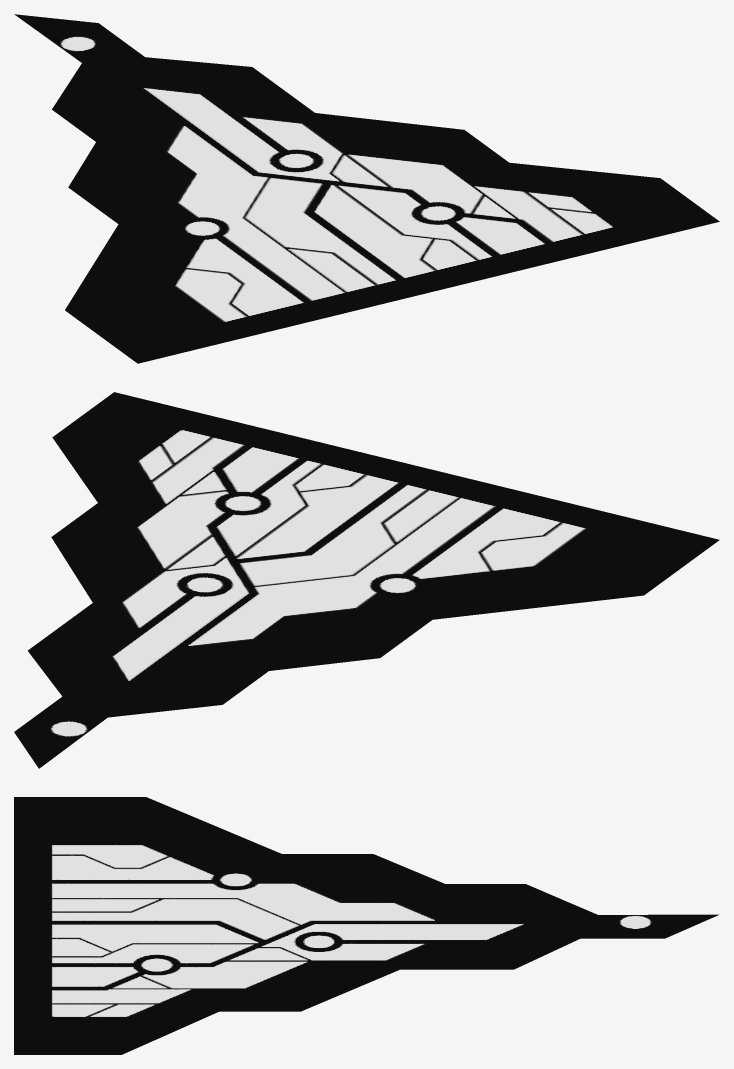
The model's file is dianlubanPBR.FBX.
3 views of the same model, one above another, from view 1: azimuth 30°, elevation 25°; view 2: azimuth 150°, elevation 25°; view 3: azimuth 270°, elevation 25° (orthographic). The views are drawn at different scales.
Visible parts, largest first — view 1: dianlubanPBR; view 2: dianlubanPBR; view 3: dianlubanPBR.
Boxes of the visible parts, x1,y1,x2,y2 form: dianlubanPBR: [14, 14, 719, 363]; dianlubanPBR: [14, 392, 719, 768]; dianlubanPBR: [14, 797, 718, 1054].
Size of the model in its own units: 10.03 by 7.11e-16 by 11.62.
